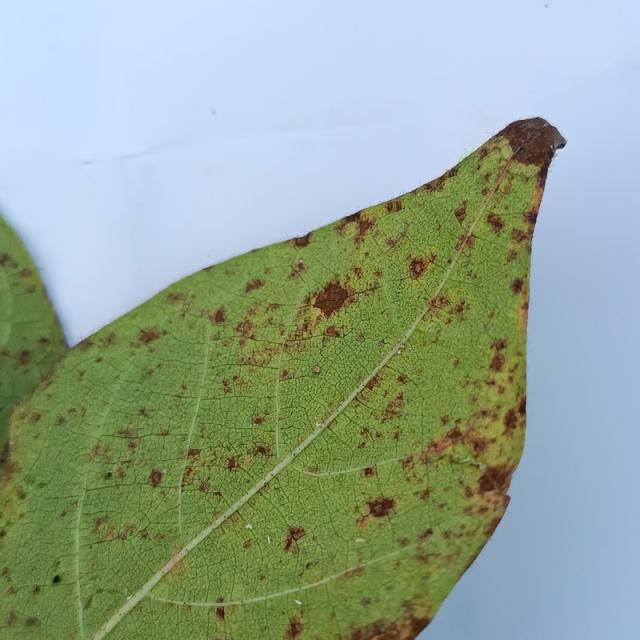Bacterial_Blight: (437, 474, 516, 561), (286, 268, 377, 340), (90, 425, 173, 491), (229, 339, 284, 376), (429, 270, 491, 300), (346, 613, 413, 640), (93, 426, 183, 446), (421, 287, 469, 324), (422, 440, 481, 470), (80, 585, 120, 629), (89, 514, 140, 545), (0, 451, 22, 517), (354, 495, 396, 527), (476, 462, 514, 495), (275, 366, 338, 385), (14, 581, 72, 598), (296, 305, 326, 336), (284, 319, 318, 346), (378, 392, 406, 422), (486, 339, 509, 375), (387, 221, 413, 250), (242, 517, 262, 549), (283, 525, 306, 552), (212, 606, 229, 640), (250, 436, 273, 461), (90, 441, 116, 463), (354, 215, 376, 240), (408, 602, 433, 622), (408, 257, 429, 279), (288, 256, 308, 279), (224, 374, 248, 393), (137, 327, 162, 345), (485, 212, 505, 234), (485, 384, 507, 404), (502, 407, 520, 431), (429, 437, 453, 453), (167, 555, 186, 575), (286, 615, 303, 637), (454, 232, 472, 252), (510, 227, 529, 245), (252, 410, 271, 427), (156, 557, 173, 576), (49, 559, 63, 582), (235, 320, 253, 337), (244, 278, 264, 293), (385, 199, 403, 214), (510, 277, 525, 295), (453, 204, 467, 223), (446, 426, 463, 441), (17, 349, 32, 366), (491, 337, 508, 352), (293, 234, 311, 248), (166, 292, 186, 304), (211, 308, 226, 324), (500, 144, 514, 161), (414, 488, 432, 501), (4, 611, 18, 627), (0, 252, 14, 268), (506, 248, 519, 264), (24, 616, 40, 628), (501, 493, 511, 512), (93, 516, 107, 529), (29, 411, 43, 424), (239, 455, 253, 468), (366, 377, 378, 391), (54, 414, 68, 426), (22, 473, 36, 485), (138, 407, 153, 418), (226, 456, 237, 471), (362, 466, 375, 478), (116, 467, 127, 481), (18, 268, 33, 278), (358, 517, 370, 529), (284, 537, 294, 551), (83, 596, 93, 609), (187, 448, 201, 457), (127, 439, 137, 451), (222, 379, 231, 392), (216, 606, 225, 619), (360, 597, 371, 606), (244, 539, 253, 549), (397, 375, 407, 383), (354, 267, 362, 277), (32, 586, 40, 596), (37, 481, 48, 488), (180, 382, 188, 391), (314, 417, 322, 426), (305, 562, 312, 570), (105, 471, 112, 479), (313, 366, 320, 373), (96, 357, 103, 363), (218, 595, 223, 600)
Cotton: (0, 118, 565, 639)
